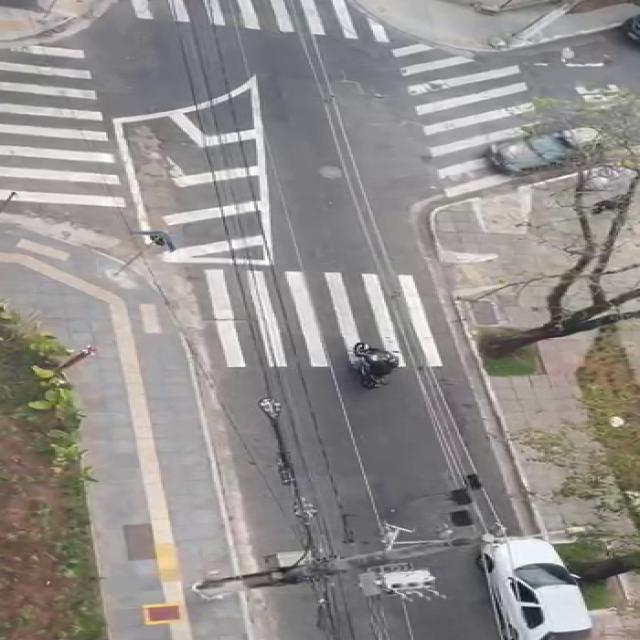car: (476, 532, 602, 640), (480, 120, 611, 184)
motorbike: (342, 332, 406, 397)
